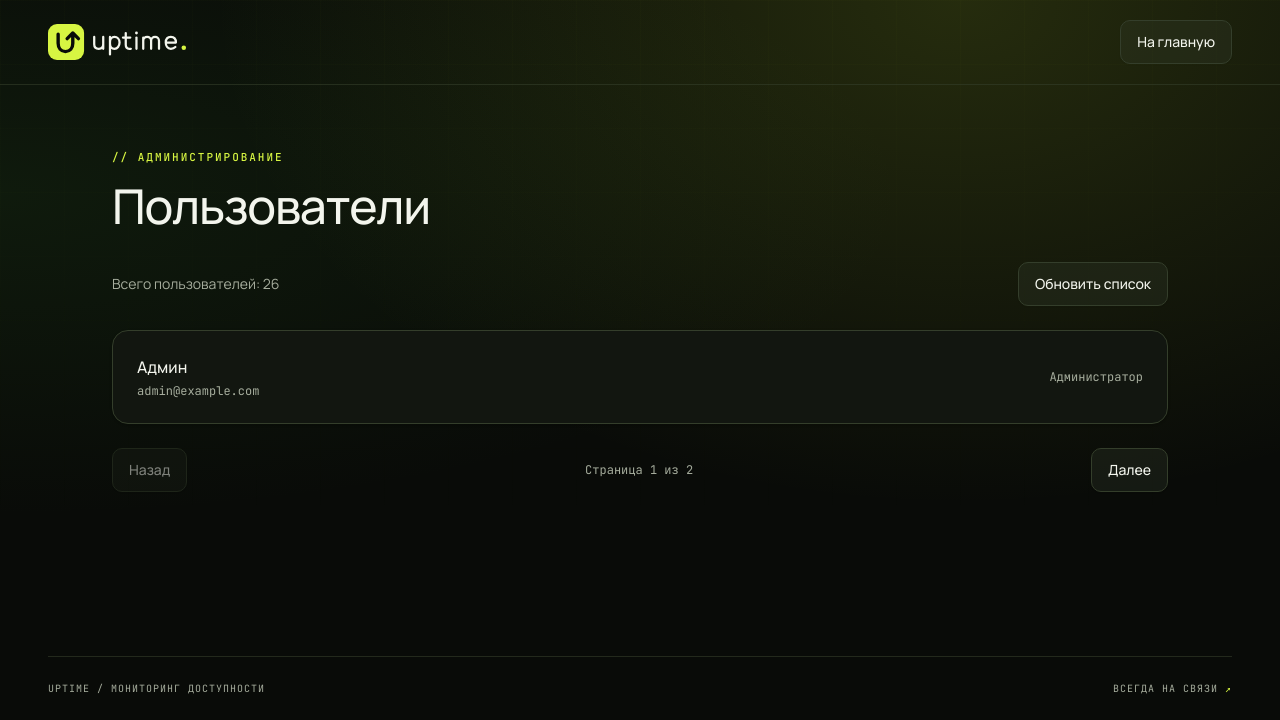
returns to the preceding page after deleting the last row
The image size is (1280, 720).
Check: the text "Всего пользователей: 26" is shown, box [112,274,280,294]
Click the button "Далее".
click(1130, 470)  # box [1091,448,1168,492]
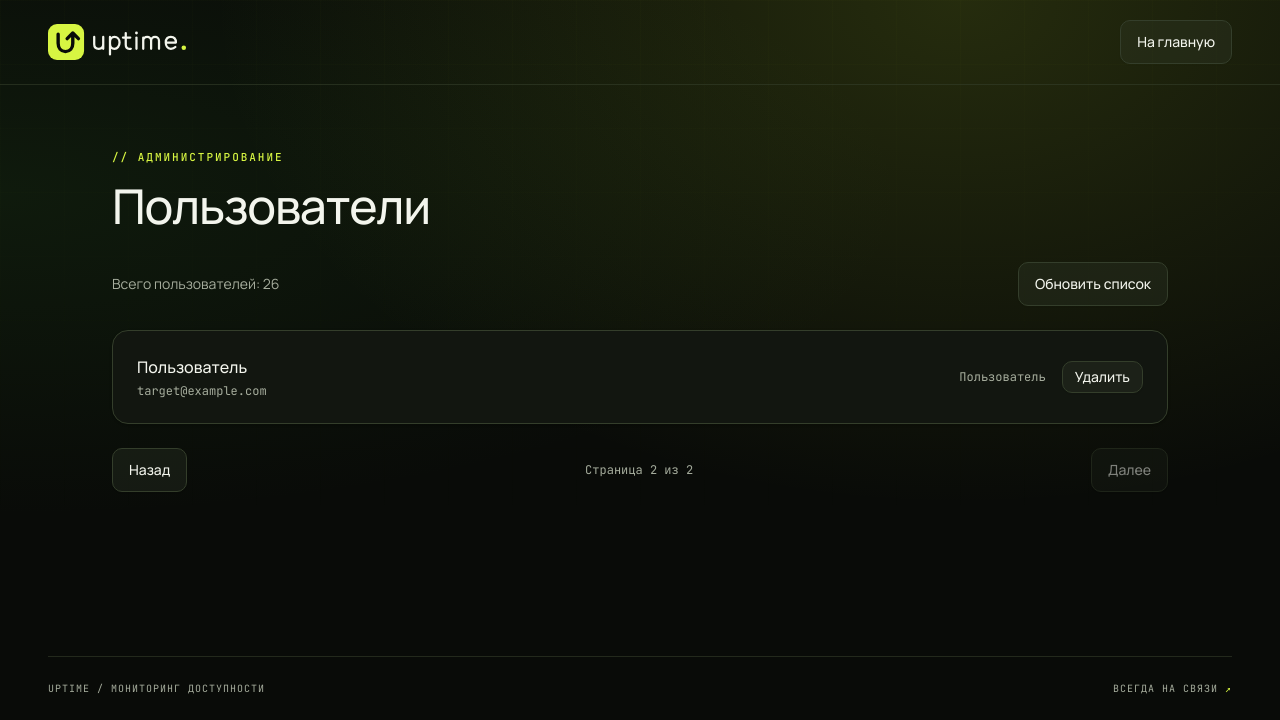
Click the button with aria-label "Удалить target@example.com".
click(1102, 376)  # box [1062,360,1143,392]
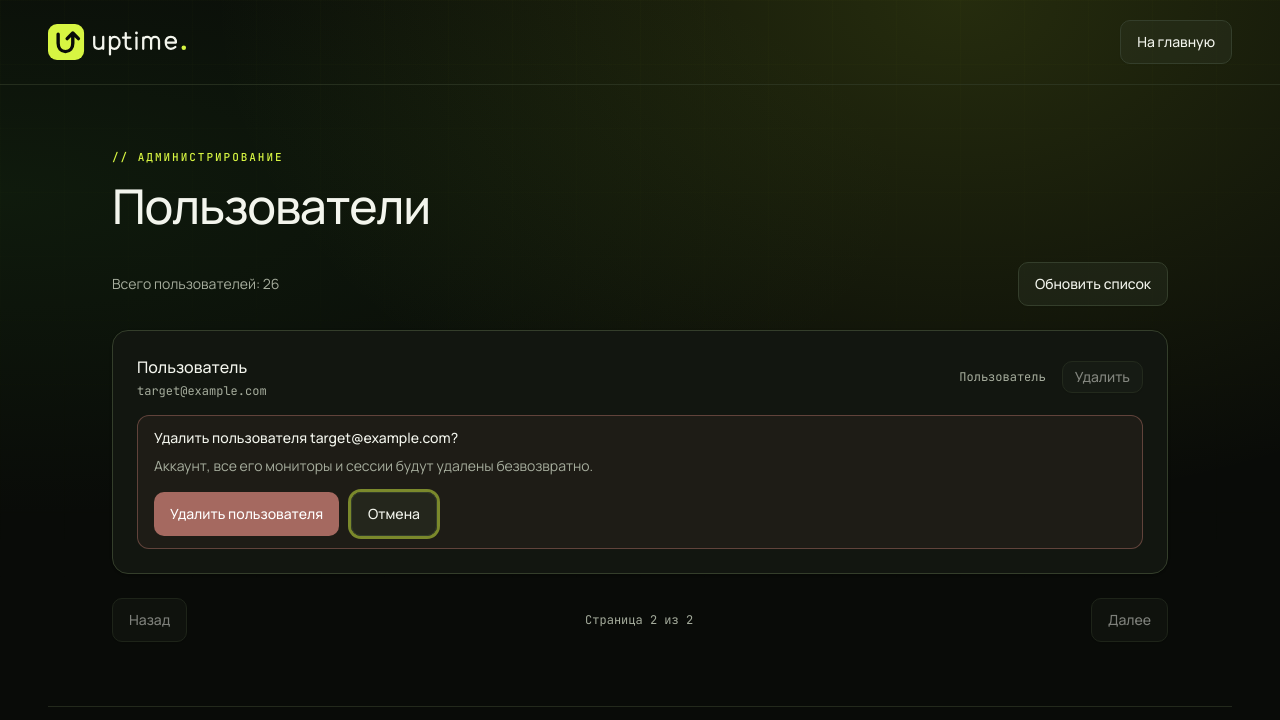
Click the button "Удалить пользователя".
click(247, 514)  # box [154,492,339,536]
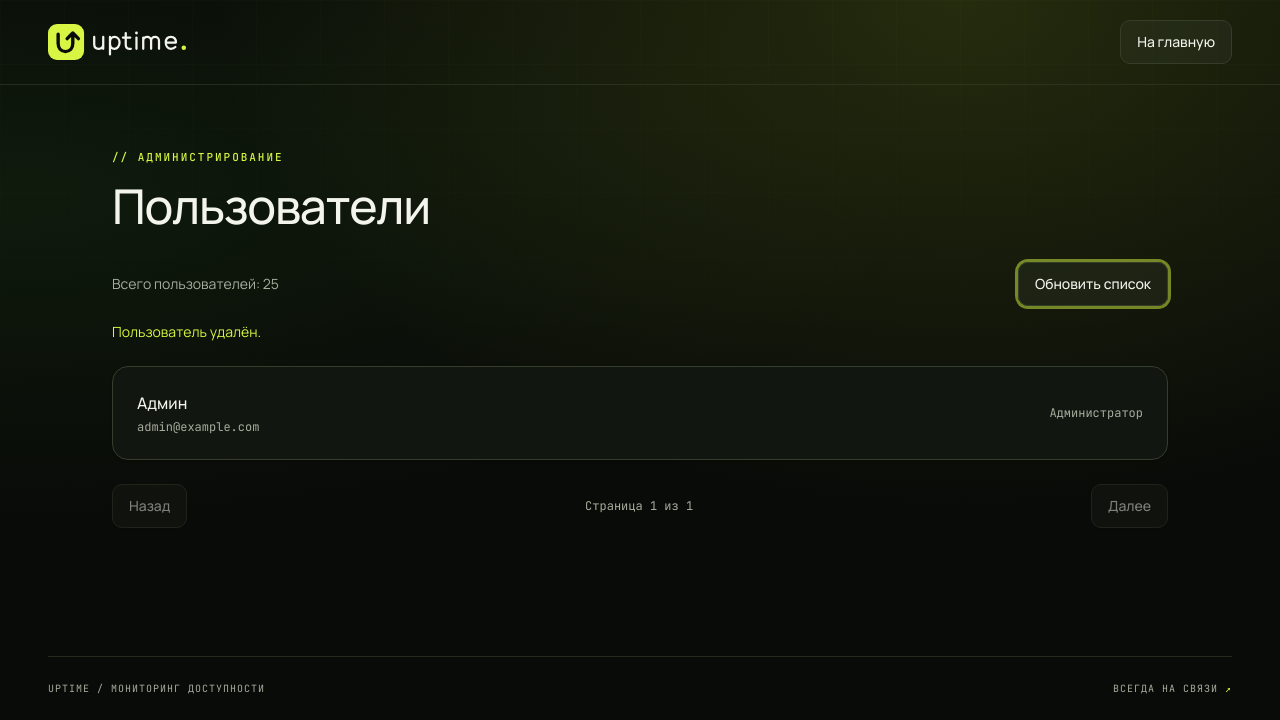
Check: the text "Страница 1 из 1" is shown, box [585,498,693,514]
